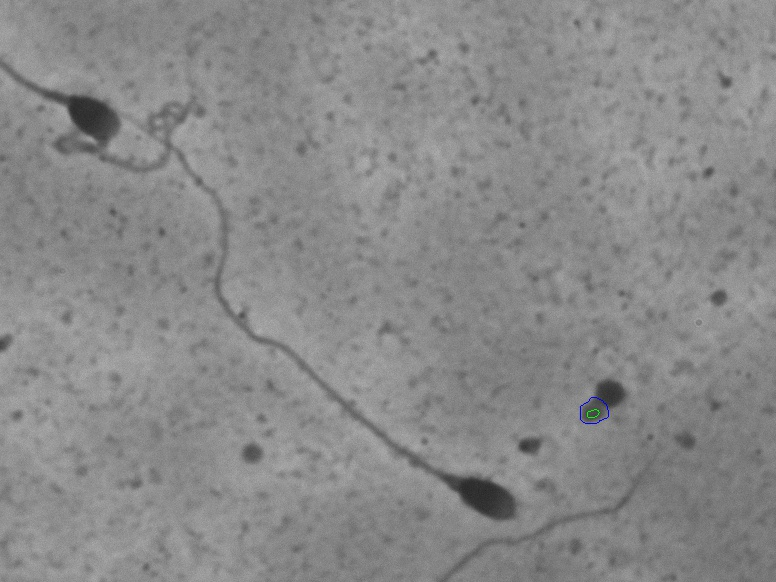Normal: (129, 109, 533, 532)
